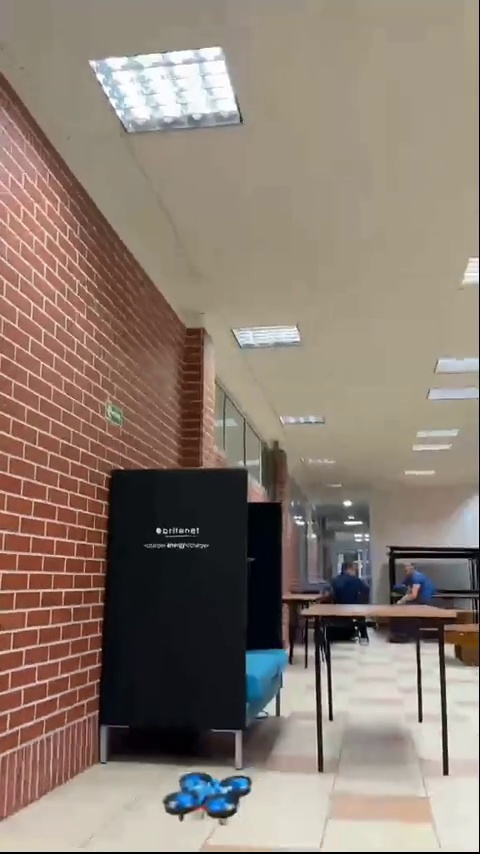drone: (174, 765, 250, 821)
no vest: (327, 565, 368, 632), (394, 560, 442, 617)
